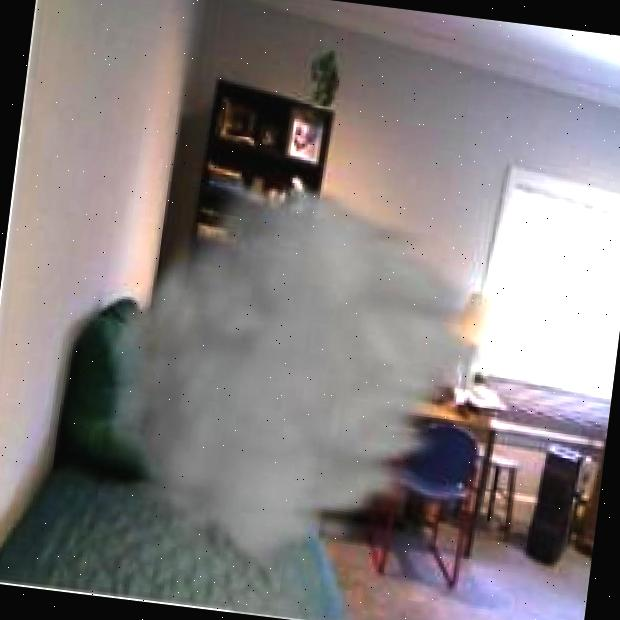smoke: (77, 160, 523, 604)
